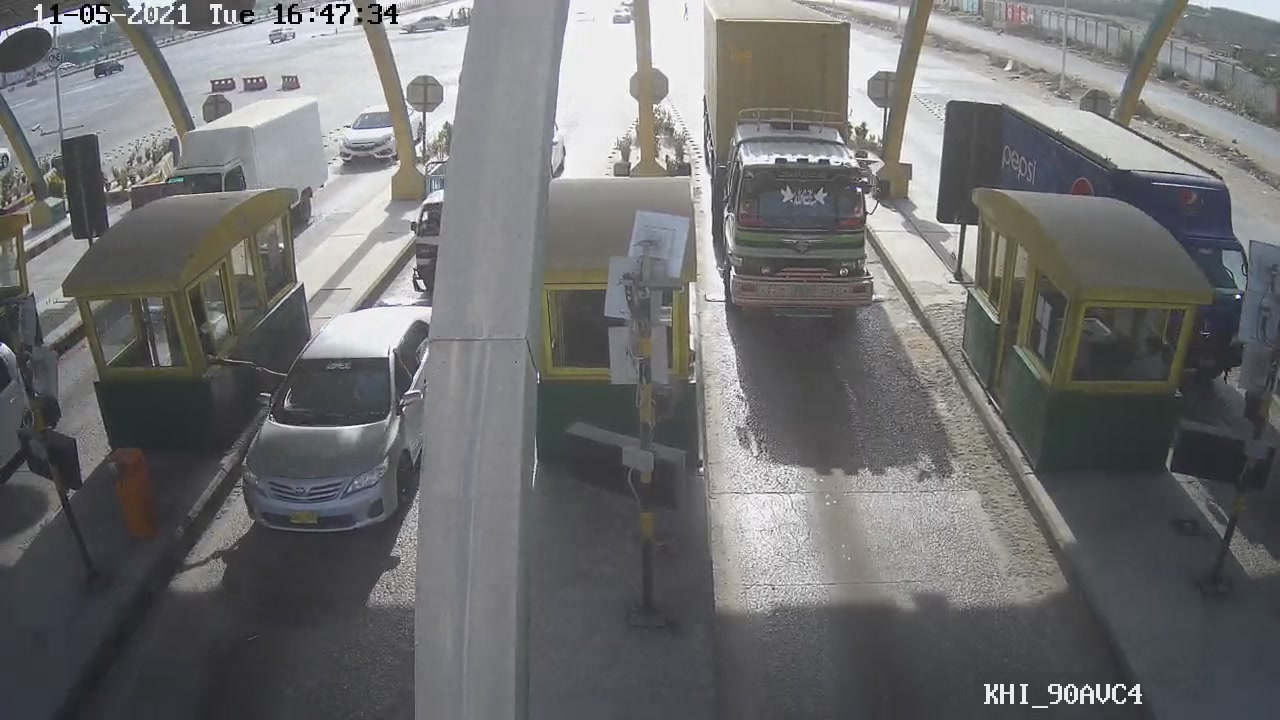F6: (692, 1, 882, 340)
